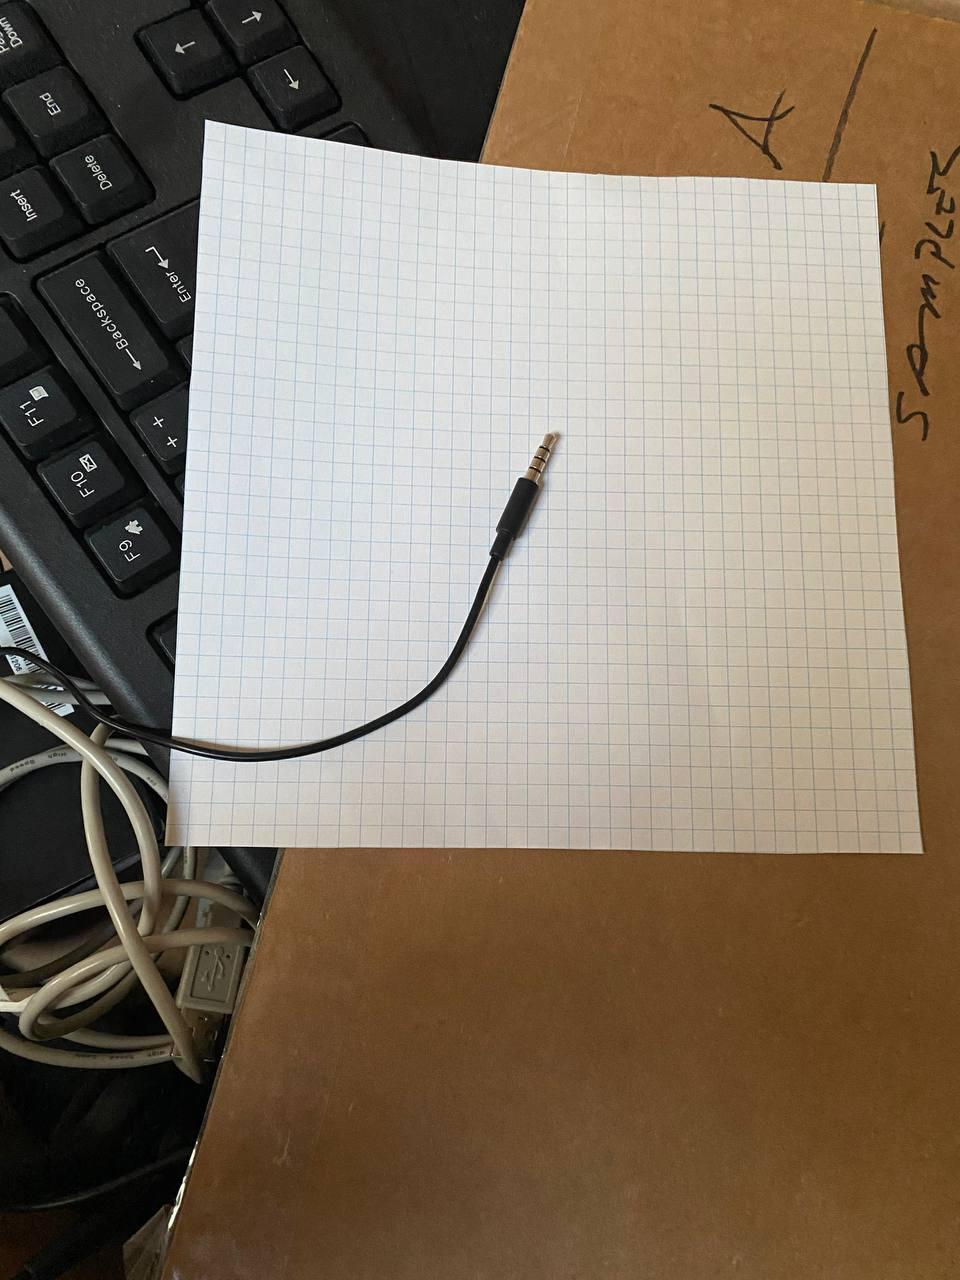grid: (155, 109, 936, 877)
